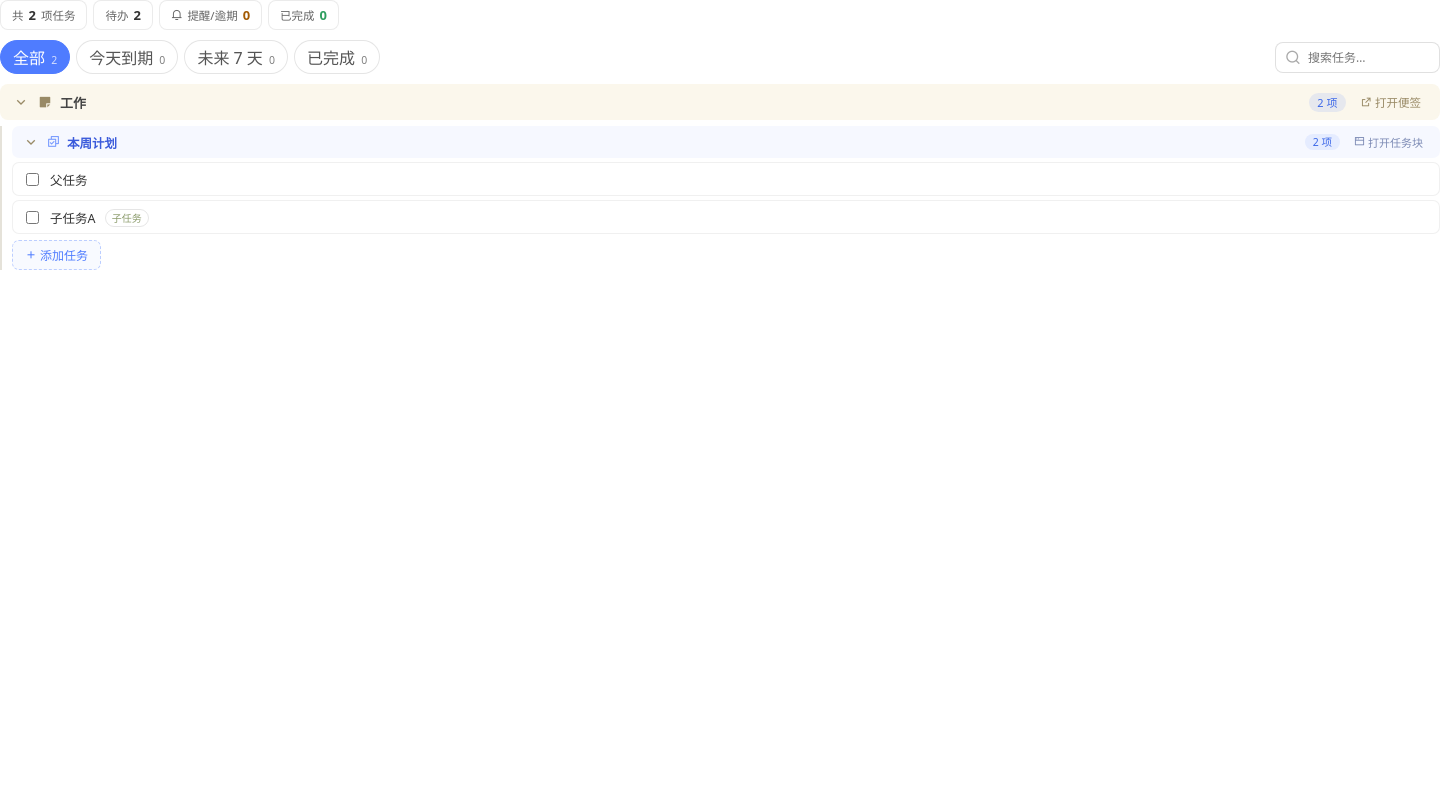
Test: TodoOverviewView › 子任务编辑浮层不显示提醒/截止/重复字段
Click the element with class "ov-row" showing "子任务A 子任务" at (726, 217), box [12,200,1439,234]
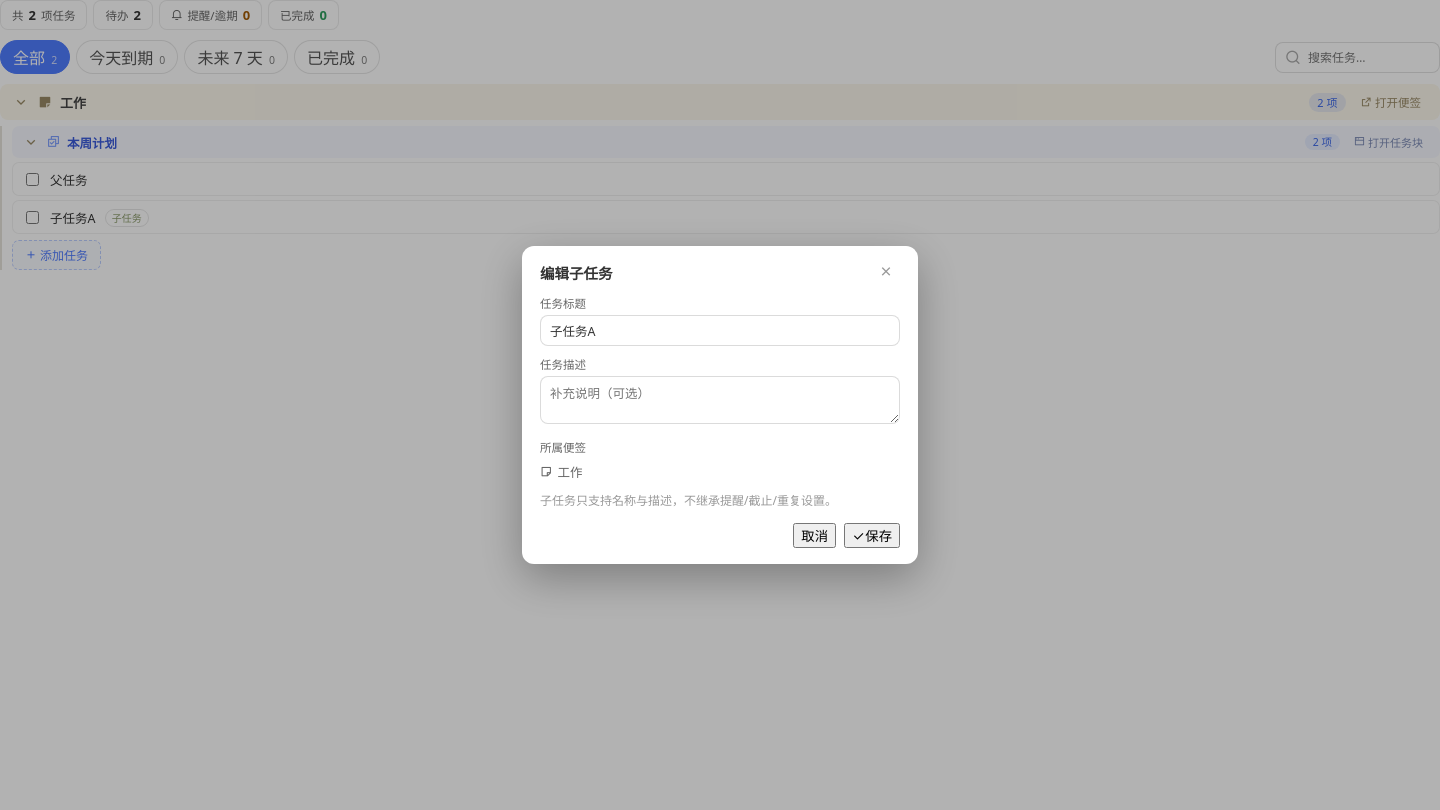
Check: the text "编辑子任务" is shown, box [540,262,900,283]
